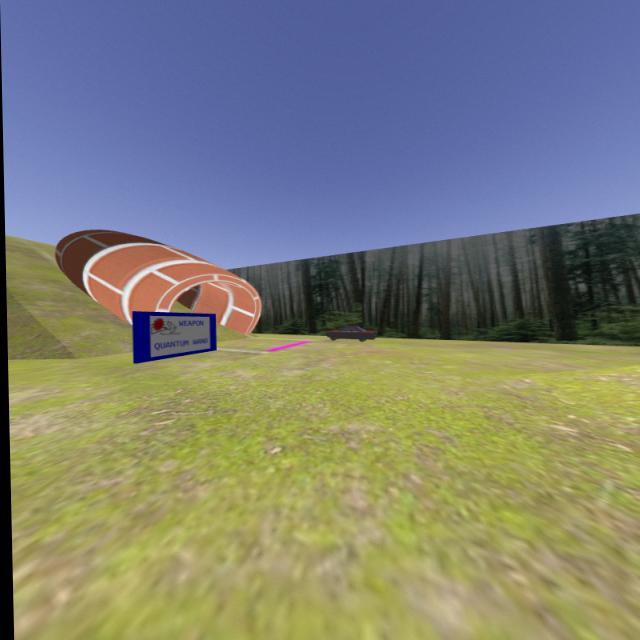clueboard: (130, 308, 219, 364)
